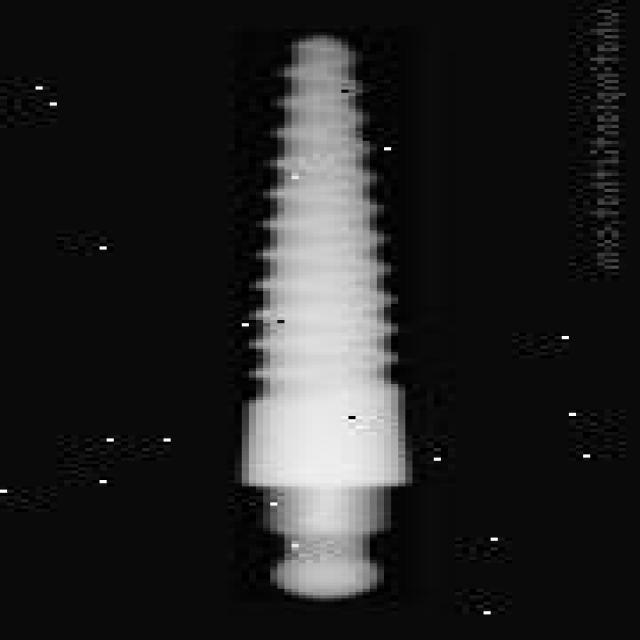Leone Implant: (212, 26, 418, 605)
